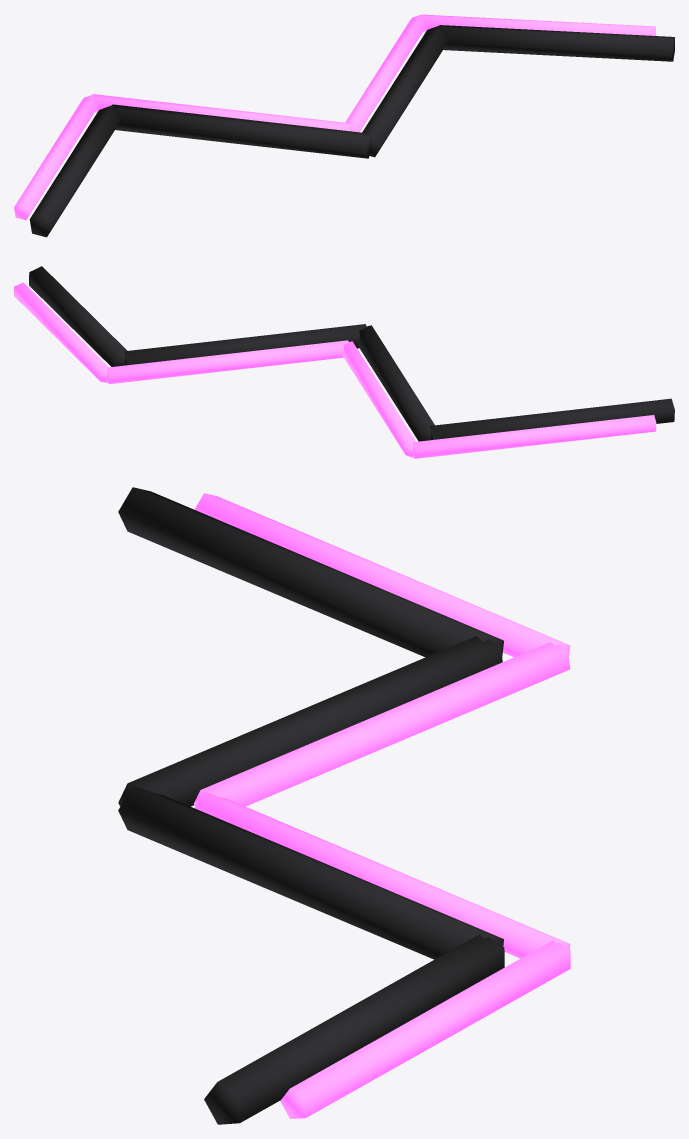
The model's file is cable_bundle_tangle_floor.glb.
3 renders of one model, top to bottom at view 1: azimuth 30°, elevation 25°; view 2: azimuth 150°, elevation 25°; view 3: azimuth 270°, elevation 25°, orthographic. The views are drawn at different scales.
Parts seen in each view (by area): view 1: GD_cable_bundle_tangle_floor__m0, GD_cable_bundle_tangle_floor__m1; view 2: GD_cable_bundle_tangle_floor__m0, GD_cable_bundle_tangle_floor__m1; view 3: GD_cable_bundle_tangle_floor__m0, GD_cable_bundle_tangle_floor__m1.
Part boxes in pixels (box(x1,y1,x2,y2)): GD_cable_bundle_tangle_floor__m0: box(29, 25, 674, 237); GD_cable_bundle_tangle_floor__m1: box(14, 14, 655, 220); GD_cable_bundle_tangle_floor__m0: box(29, 266, 674, 441); GD_cable_bundle_tangle_floor__m1: box(14, 282, 656, 458); GD_cable_bundle_tangle_floor__m0: box(118, 487, 504, 1124); GD_cable_bundle_tangle_floor__m1: box(194, 493, 570, 1119).
Size of the model in its own units: 0.8157 by 0.0277 by 0.2563.
